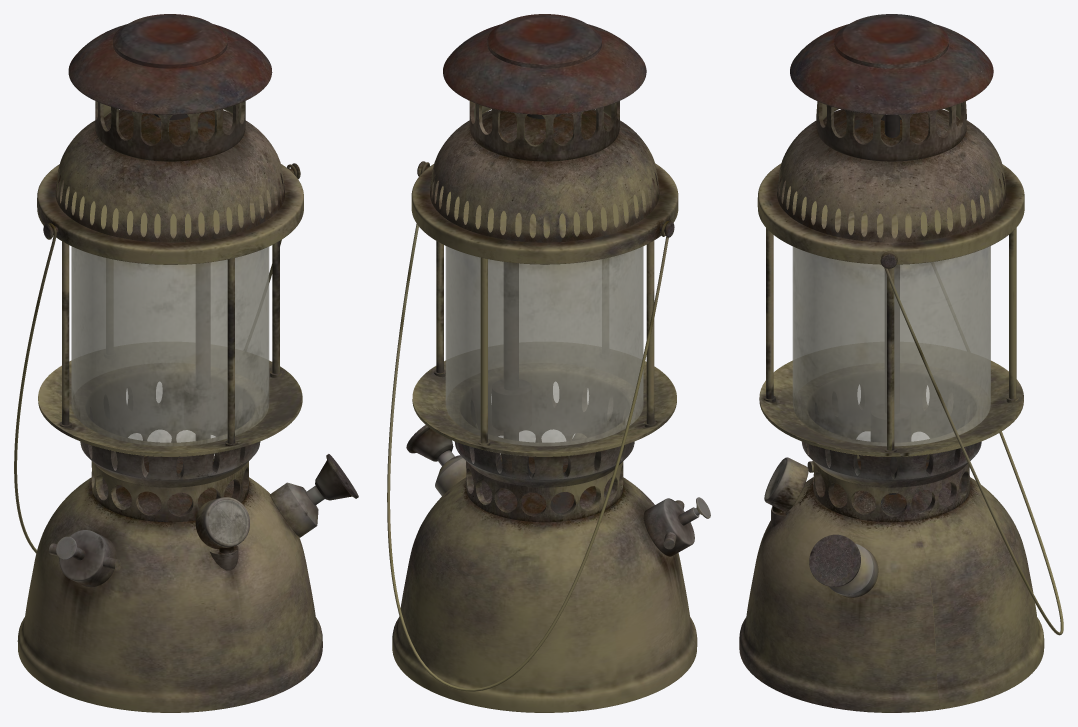
File: lantern.glb
3 renders of one model, left to right at view 1: azimuth 30°, elevation 25°; view 2: azimuth 150°, elevation 25°; view 3: azimuth 270°, elevation 25°, orthographic.
Parts seen in each view (by area): view 1: pSphere1, pPipe3, pPipe14, pSphere5, pSphere3, pCylinder1, pPipe15, polySurface28, polySurface38, polySurface1, pCylinder74, pCylinder32 (+4 smaller); view 2: pSphere1, pPipe3, pPipe14, pSphere5, pSphere3, pCylinder1, pPipe15, polySurface28, pCylinder14, pCylinder74, polySurface1, pCylinder32 (+2 smaller); view 3: pSphere1, pPipe3, pPipe14, pSphere5, pSphere3, pCylinder1, pPipe15, polySurface28, pCylinder14, polySurface9, polySurface38, pCylinder74 (+2 smaller).
Boxes of the visible parts, bbox=[...] form: pSphere1: bbox=[17, 456, 322, 712]; pPipe3: bbox=[71, 246, 269, 446]; pPipe14: bbox=[38, 360, 302, 522]; pSphere5: bbox=[55, 109, 284, 242]; pSphere3: bbox=[68, 14, 272, 114]; pCylinder1: bbox=[37, 164, 303, 264]; pPipe15: bbox=[95, 101, 245, 161]; polySurface28: bbox=[59, 241, 281, 445]; polySurface38: bbox=[195, 497, 249, 549]; polySurface1: bbox=[59, 530, 116, 587]; pCylinder74: bbox=[196, 262, 210, 440]; pCylinder32: bbox=[184, 380, 223, 432]; pSphere1: bbox=[392, 456, 697, 712]; pPipe3: bbox=[445, 246, 643, 446]; pPipe14: bbox=[412, 360, 676, 522]; pSphere5: bbox=[430, 109, 659, 242]; pSphere3: bbox=[443, 14, 646, 114]; pCylinder1: bbox=[411, 163, 678, 264]; pPipe15: bbox=[469, 101, 619, 161]; polySurface28: bbox=[434, 241, 656, 445]; pCylinder14: bbox=[387, 162, 669, 691]; pCylinder74: bbox=[504, 262, 518, 440]; polySurface1: bbox=[643, 498, 694, 556]; pCylinder32: bbox=[492, 379, 531, 431]; pSphere1: bbox=[739, 458, 1044, 712]; pPipe3: bbox=[792, 246, 990, 446]; pPipe14: bbox=[759, 360, 1023, 522]; pSphere5: bbox=[777, 109, 1006, 242]; pSphere3: bbox=[790, 14, 993, 114]; pCylinder1: bbox=[757, 163, 1024, 264]; pPipe15: bbox=[816, 101, 966, 161]; polySurface28: bbox=[764, 228, 1018, 452]; pCylinder14: bbox=[881, 251, 1063, 635]; polySurface9: bbox=[809, 534, 860, 587]; polySurface38: bbox=[764, 457, 808, 511]; pCylinder74: bbox=[884, 114, 899, 494].
Size of the model in its own units: 1.01 by 2 by 0.9534.
Materials: 6 (6 with a texture image).
